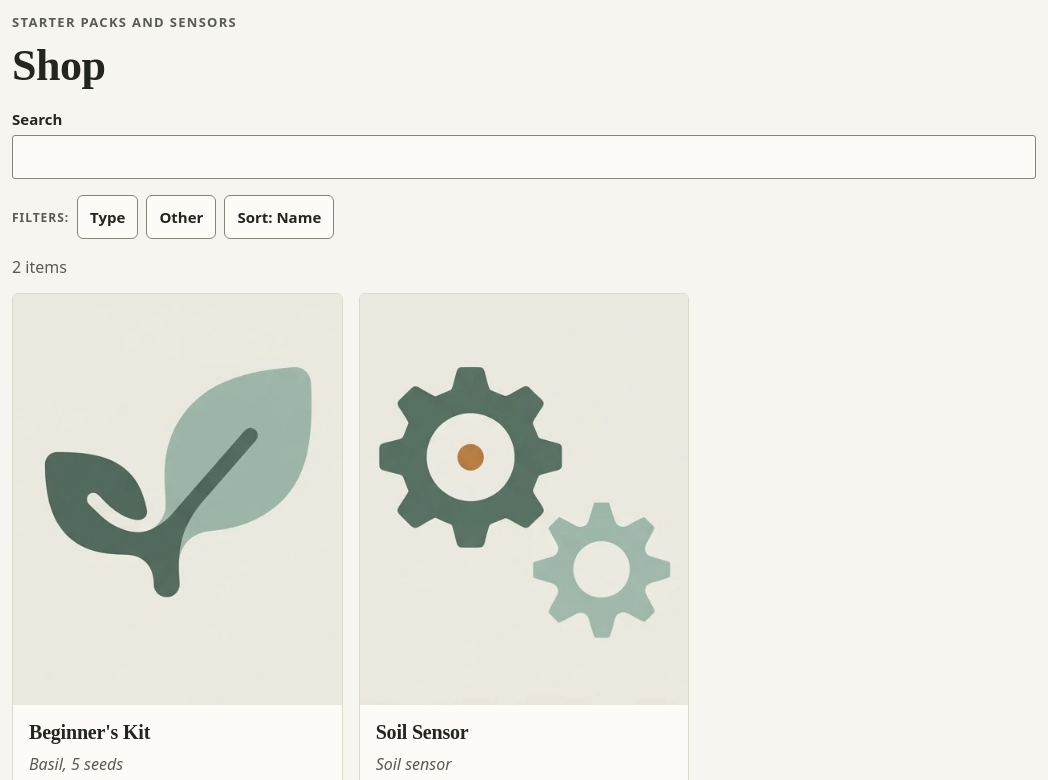
Test: CatalogPage › shows a clear button and a message when nothing matches
Check: the heading "Soil Sensor" is shown, box 376,721 -> 468,743
Click the button "Type".
click(108, 217)  # box 77,195 -> 138,239
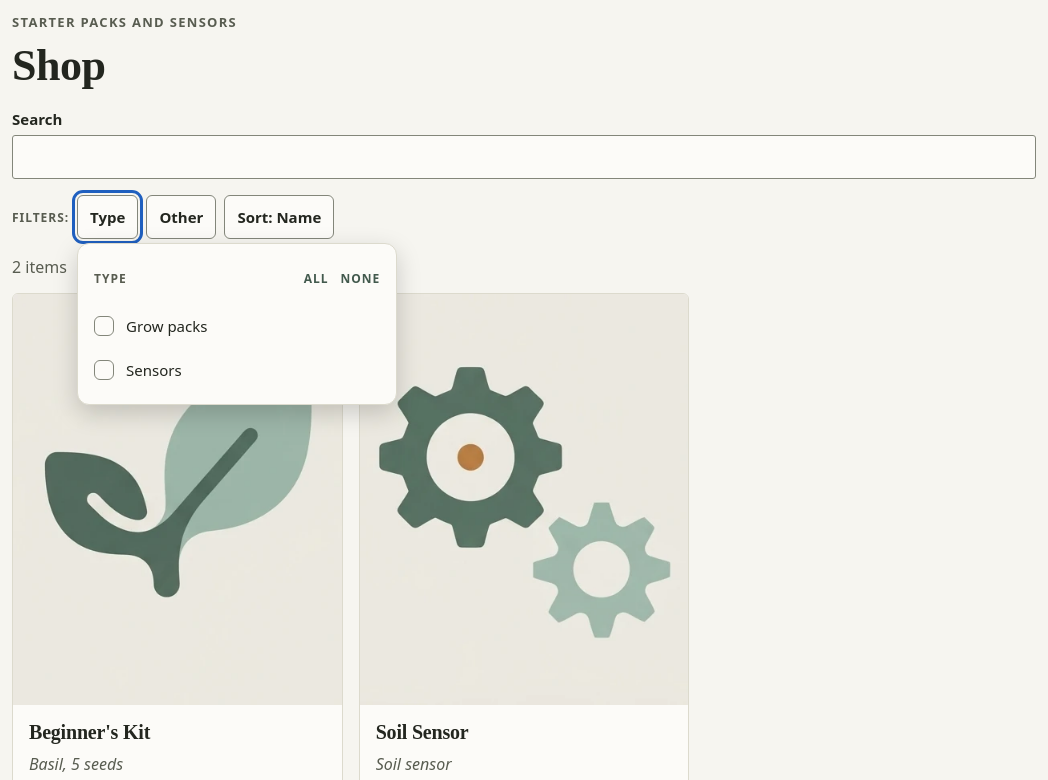
Click the checkbox labelled "Sensors".
click(138, 370)  # box 94,360 -> 182,380
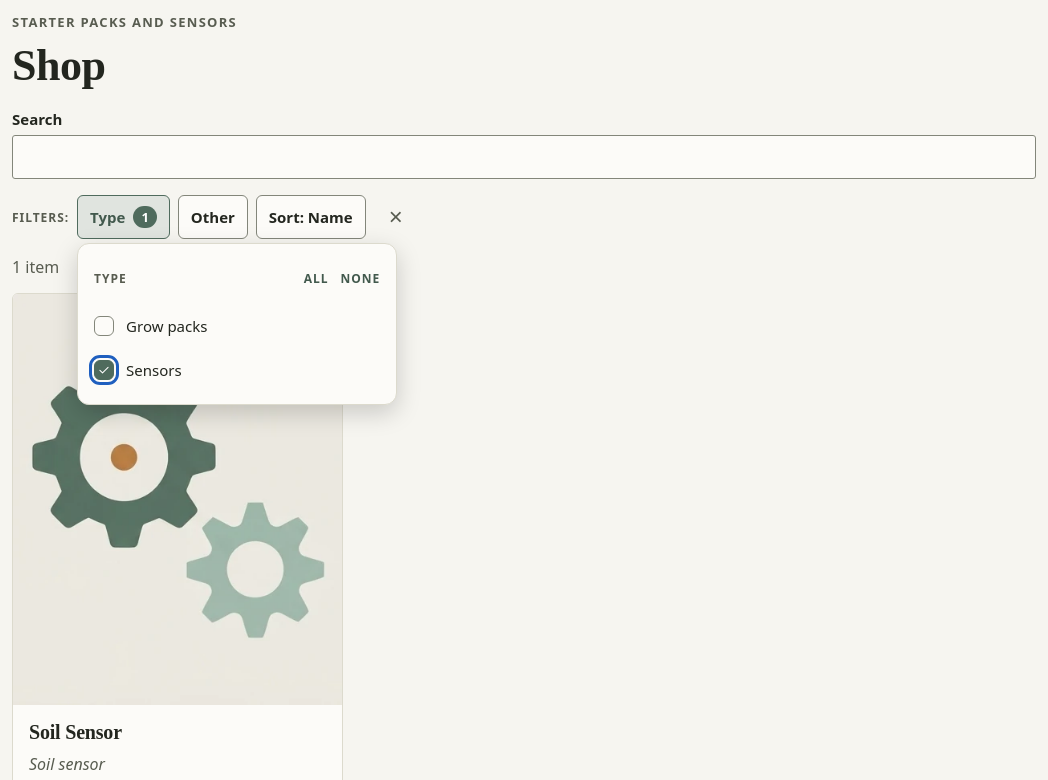
Click the button "Other".
click(213, 217)  # box 178,195 -> 248,239
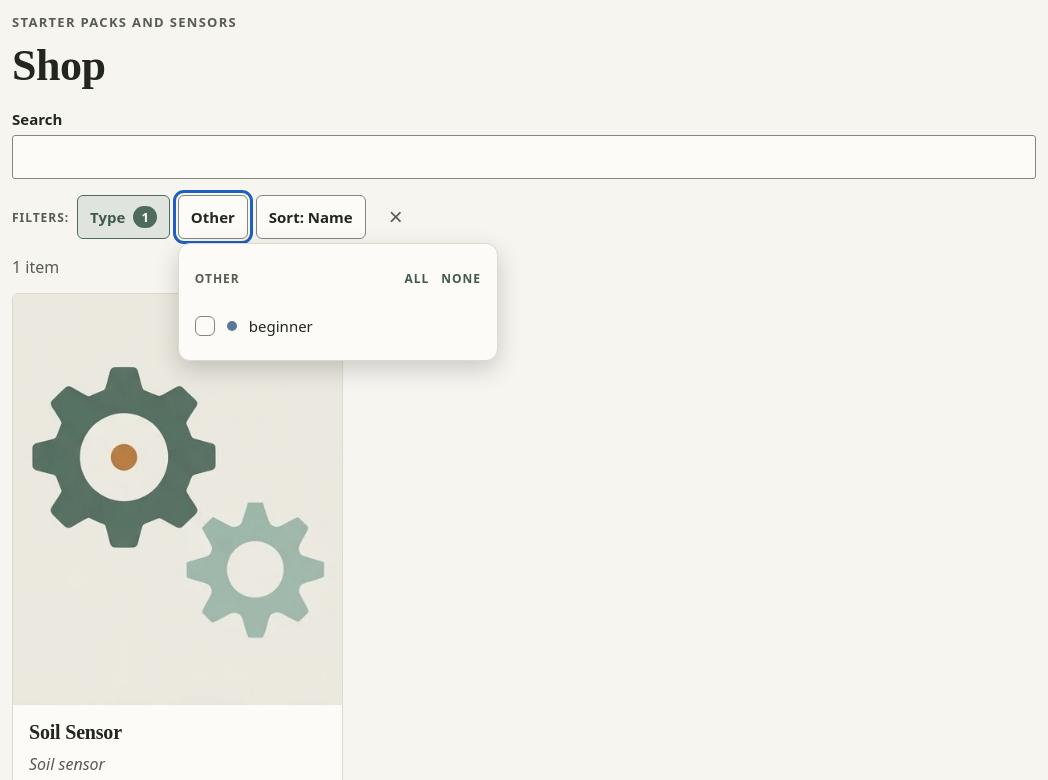
Click the checkbox labelled "beginner".
click(254, 326)  # box 195,316 -> 313,336
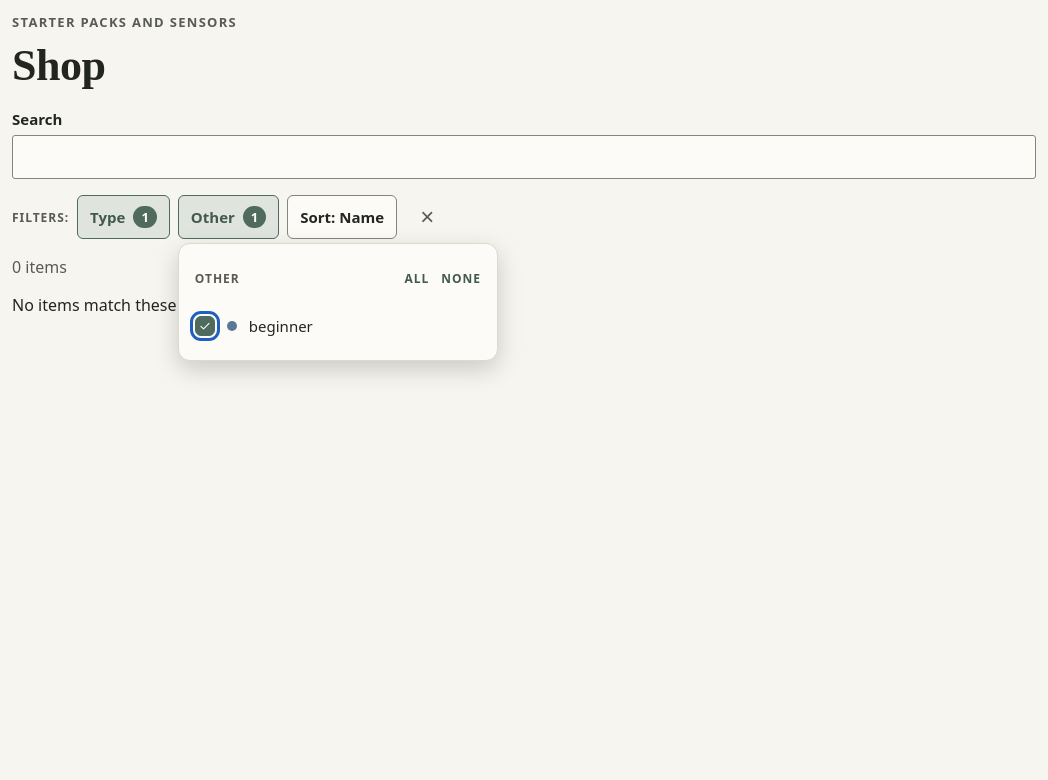
Check: the number of buttons named "Clear filters" is 1, box 405,195 -> 449,239
Check: the text "0 items" is shown, box 12,256 -> 67,278
